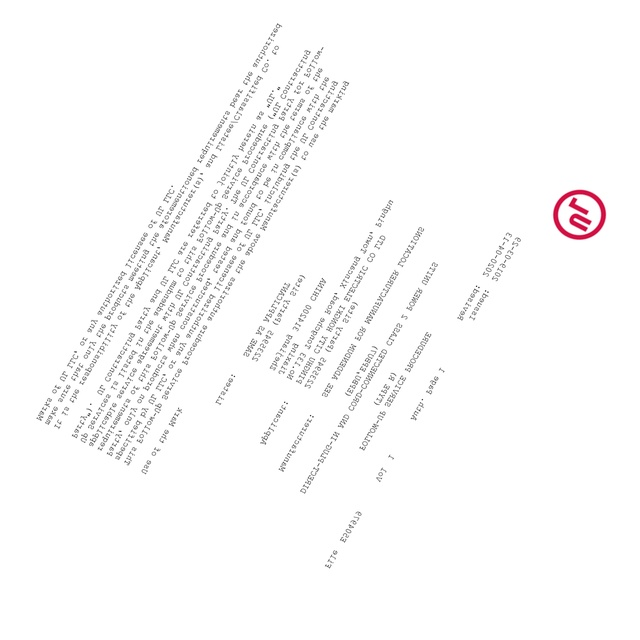ul: (553, 188, 607, 241)
